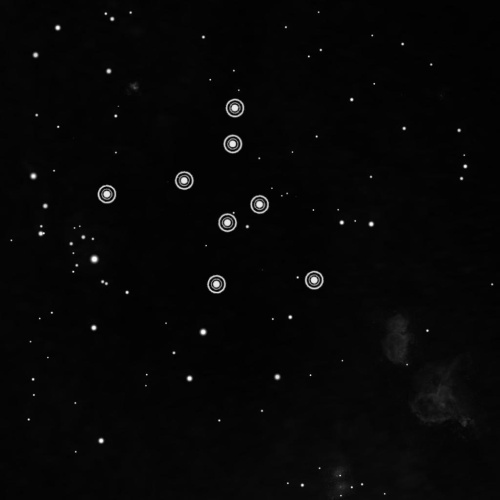hercules: (91, 94, 329, 298)
